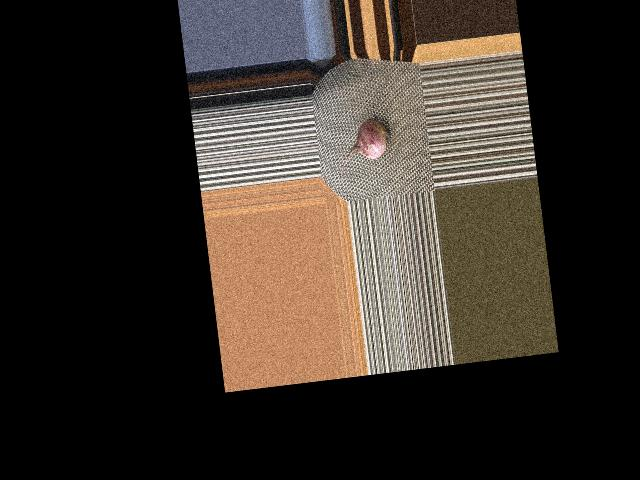beet: (333, 116, 396, 180)
